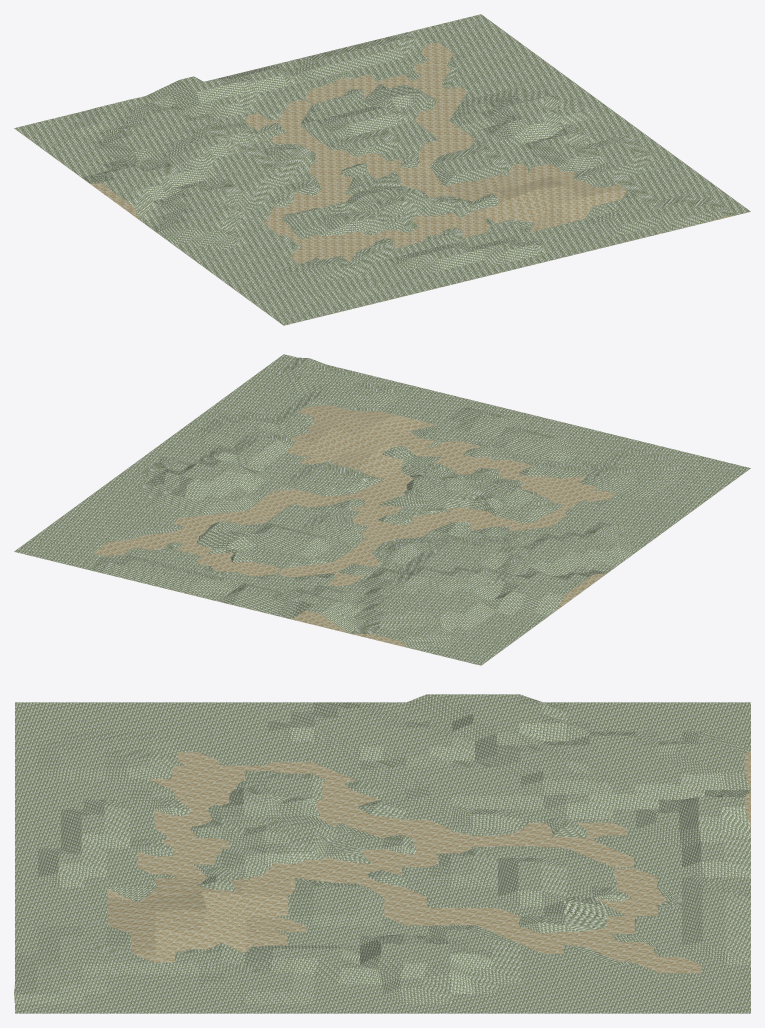
Rendered from chapter_0_map.obj.
3 renders of one model, top to bottom at view 1: azimuth 30°, elevation 25°; view 2: azimuth 150°, elevation 25°; view 3: azimuth 270°, elevation 25°, orthographic. The views are drawn at different scales.
Visible parts, largest first — view 1: Plane.001, Plane; view 2: Plane.001, Plane; view 3: Plane.001, Plane.
Boxes of the visible parts, x1,y1,x2,y2 form: Plane.001: (14, 14, 750, 325); Plane: (17, 42, 750, 325); Plane.001: (14, 354, 750, 665); Plane: (14, 404, 747, 665); Plane.001: (14, 694, 750, 1013); Plane: (107, 751, 750, 973).
Size of the model in its own units: 250 by 8.69 by 250.
2 materials, 2 textured.
